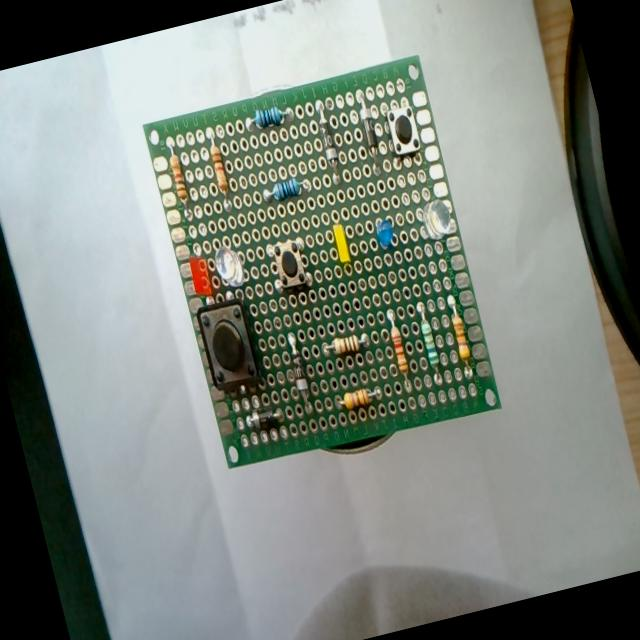diode: (312, 101, 343, 182), (283, 329, 313, 408), (356, 96, 386, 174), (244, 406, 284, 435)
led: (418, 196, 456, 242), (211, 242, 247, 290), (369, 213, 403, 260), (186, 252, 214, 298), (332, 223, 352, 265)
resistor: (206, 136, 234, 206), (165, 146, 192, 214), (445, 294, 472, 362), (415, 300, 441, 370), (244, 100, 295, 133), (384, 308, 409, 374), (261, 174, 308, 204), (321, 330, 369, 358), (340, 384, 382, 410)
switch: (194, 296, 264, 394), (268, 238, 310, 294), (384, 105, 422, 158)
